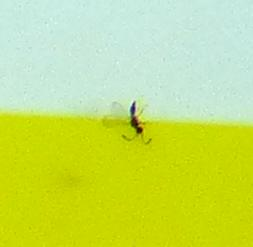Hymenoptera: (100, 100, 153, 147)
